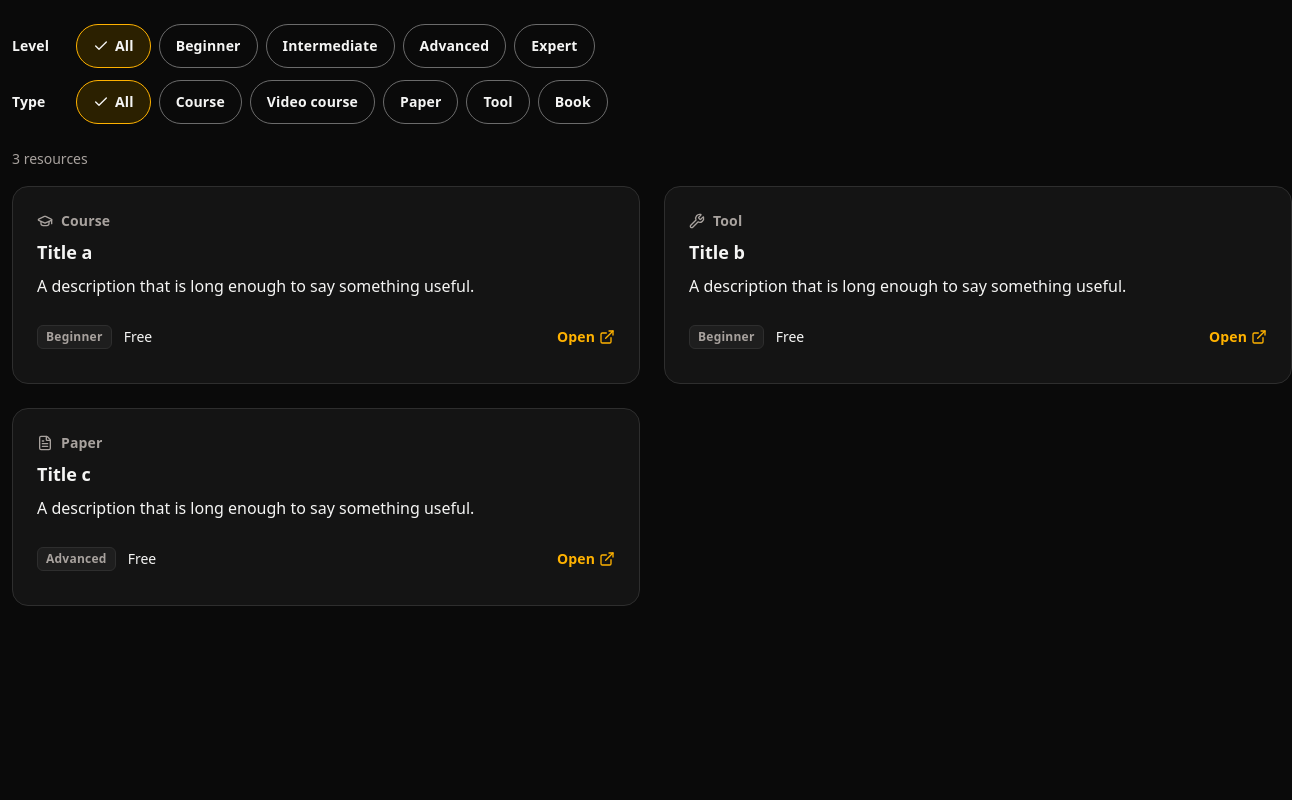
ResourceBrowser › filters with the chips and says how many are shown
Click the button "Beginner".
click(208, 46)  # box [159, 24, 258, 68]
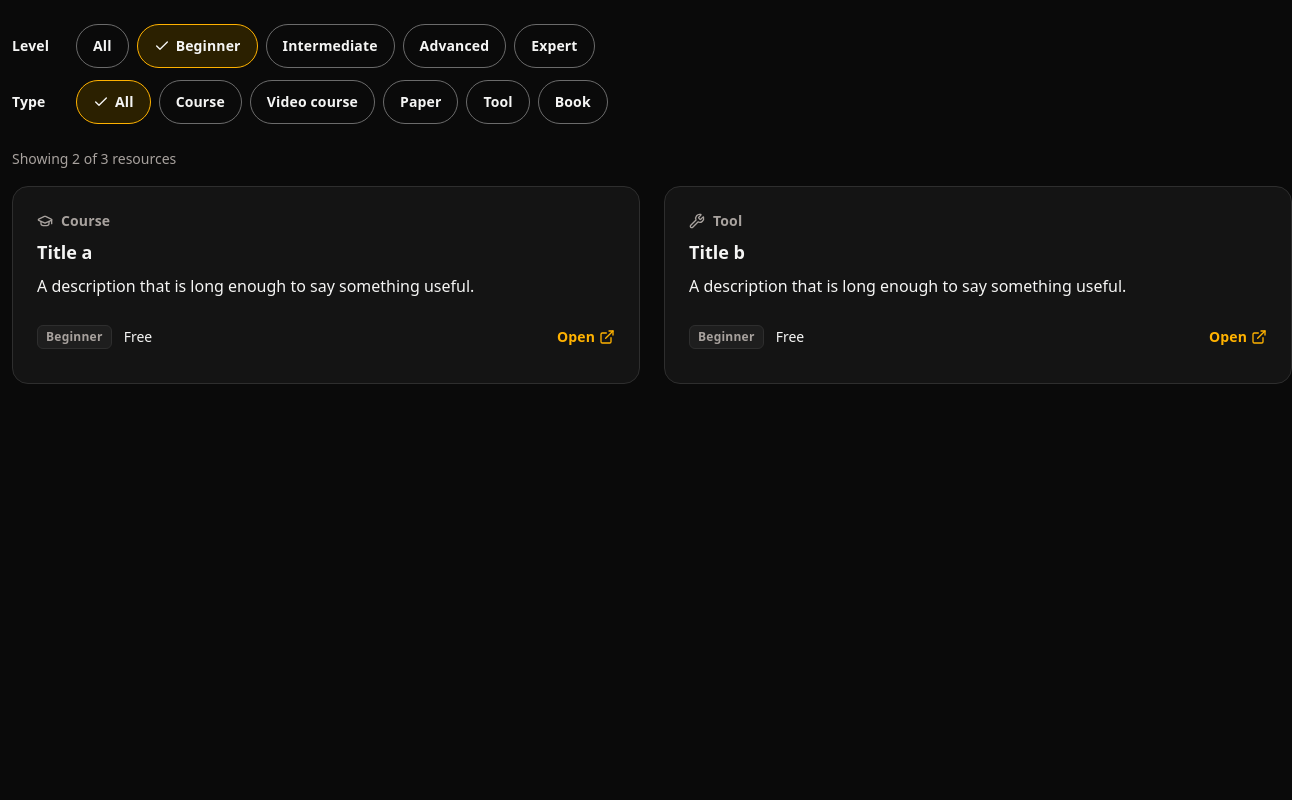
Expected: the message reads "Showing 2 of 3 resources", [12, 149, 176, 168]
